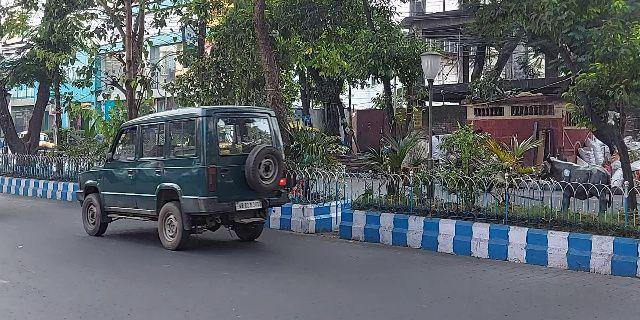Car: (76, 103, 291, 253)
